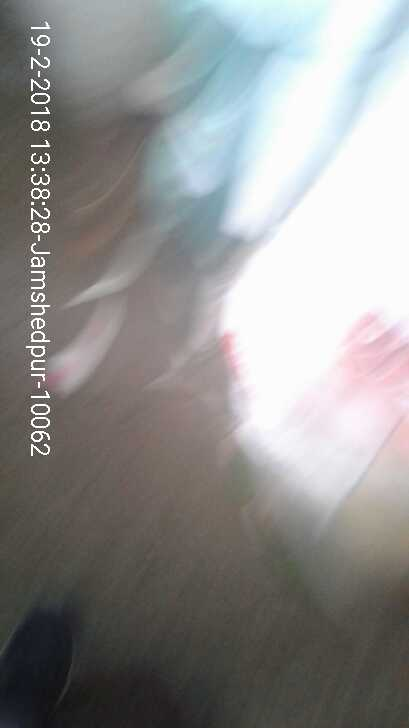reject: (109, 208, 320, 343)
